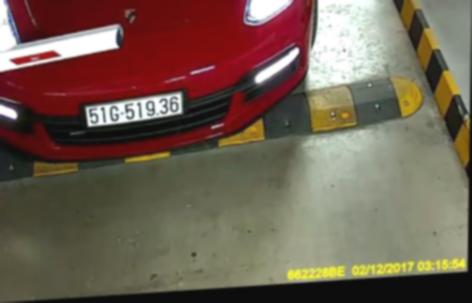License_Plate: (82, 93, 186, 129)
